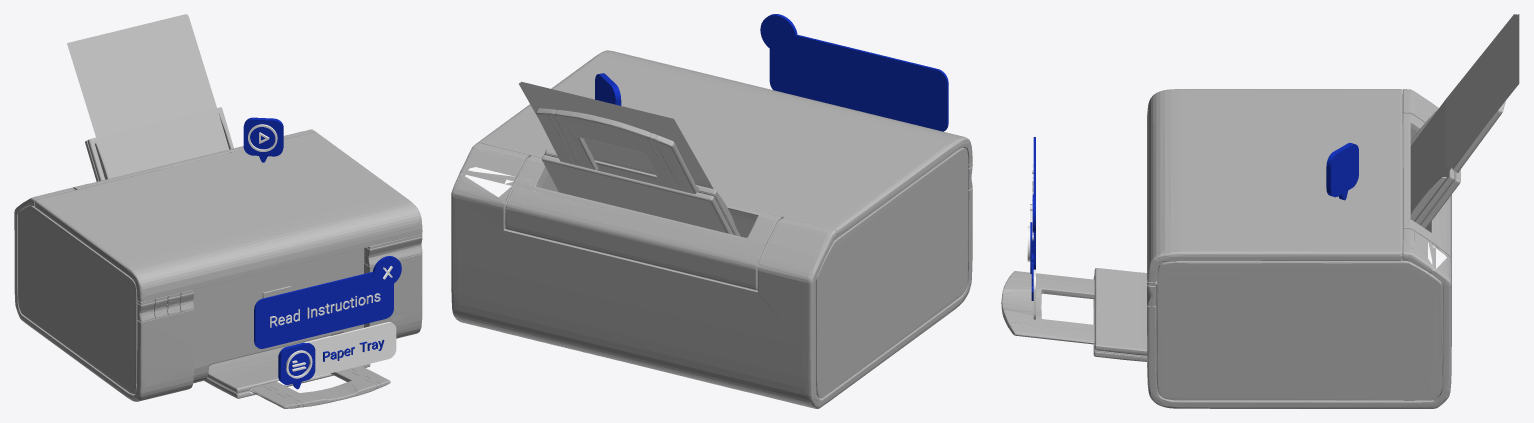
File: printer.glb
3 renders of one model, left to right at view 1: azimuth 30°, elevation 25°; view 2: azimuth 150°, elevation 25°; view 3: azimuth 270°, elevation 25°, orthographic. The views are drawn at different scales.
Parts seen in each view (by area): view 1: printer, readbutton, poipaper, poivideo, close; view 2: printer, readbutton, close, poivideo; view 3: printer, poivideo, poipaper.
Boxes of the visible parts, box(x1,y1,x2,y2) form: printer: box(14, 14, 422, 408); readbutton: box(254, 272, 393, 348); poipaper: box(278, 322, 396, 389); poivideo: box(243, 117, 283, 162); close: box(373, 256, 401, 286); printer: box(451, 50, 972, 408); readbutton: box(769, 31, 948, 131); close: box(760, 14, 797, 47); poivideo: box(595, 73, 621, 105); printer: box(1001, 14, 1519, 408); poivideo: box(1326, 143, 1358, 200); poipaper: box(1027, 222, 1035, 320).
Bounding box in the file's own units: 0.497 × 0.3901 × 0.6577.
